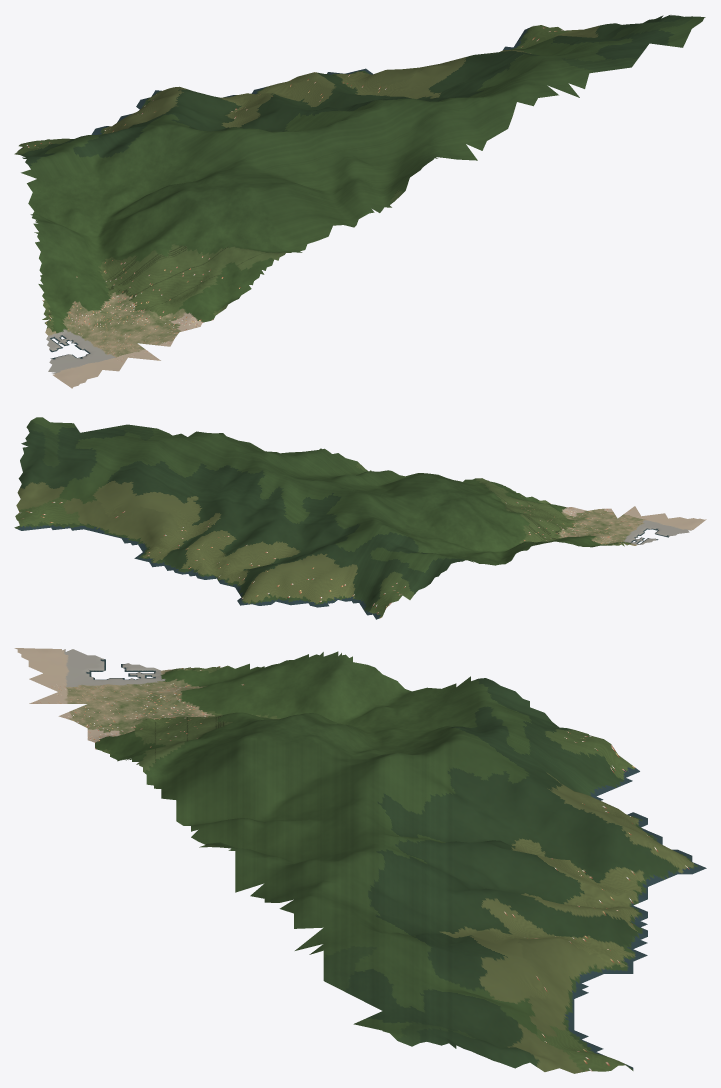
File: SM_Fondale_Colline_O.fbx
The picture shows the model from 3 angles, top to bottom: view 1: azimuth 30°, elevation 25°; view 2: azimuth 150°, elevation 25°; view 3: azimuth 270°, elevation 25°; orthographic projection. The views are drawn at different scales.
Visible parts, largest first — view 1: SM_Fondale_Colline_O; view 2: SM_Fondale_Colline_O; view 3: SM_Fondale_Colline_O.
Boxes of the visible parts, left/top/right/bottom form: SM_Fondale_Colline_O: left=14, top=15, right=705, bottom=388; SM_Fondale_Colline_O: left=14, top=417, right=706, bottom=619; SM_Fondale_Colline_O: left=14, top=648, right=706, bottom=1073.
Size of the model in its own units: 900000 by 564000 by 79443.
Materials: 1 (1 with a texture image).
